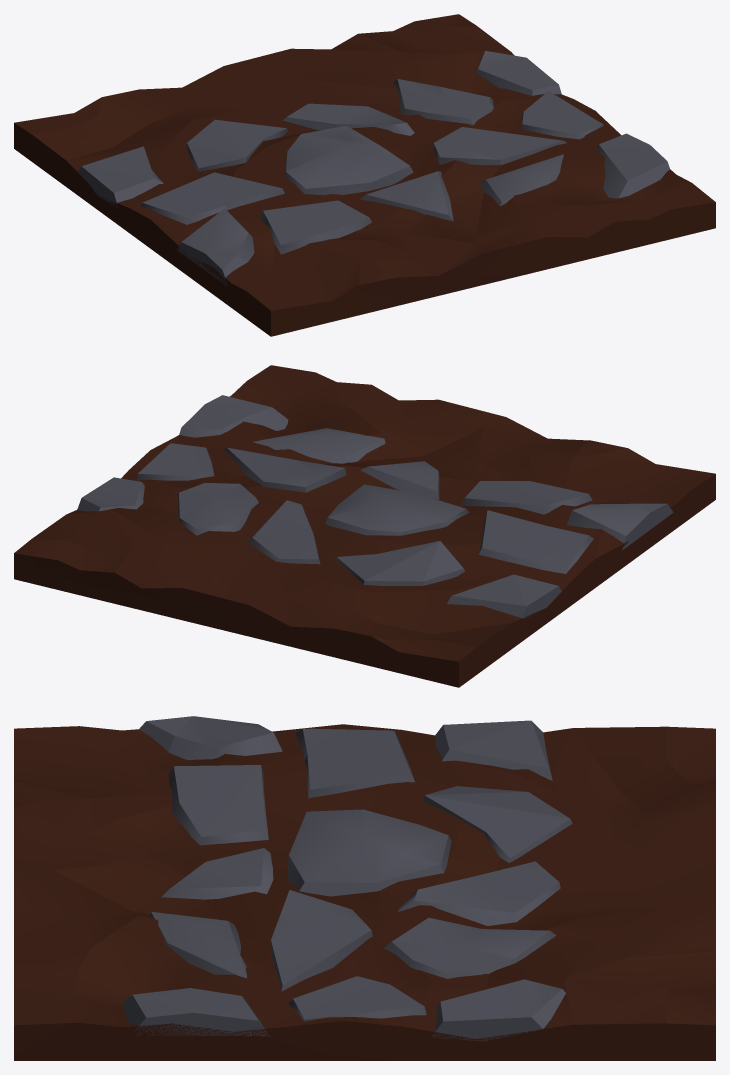
Rendered from Ground_Stone_Path_H.fbx.
3 views of the same model, one above another, from view 1: azimuth 30°, elevation 25°; view 2: azimuth 150°, elevation 25°; view 3: azimuth 270°, elevation 25° (orthographic). The views are drawn at different scales.
Parts seen in each view (by area): view 1: Ground_Stone_Path_H; view 2: Ground_Stone_Path_H; view 3: Ground_Stone_Path_H.
Boxes of the visible parts, x1,y1,x2,y2 form: Ground_Stone_Path_H: [14, 14, 715, 336]; Ground_Stone_Path_H: [14, 365, 715, 687]; Ground_Stone_Path_H: [14, 716, 715, 1060].
Size of the model in its own units: 147 by 14.98 by 147.
